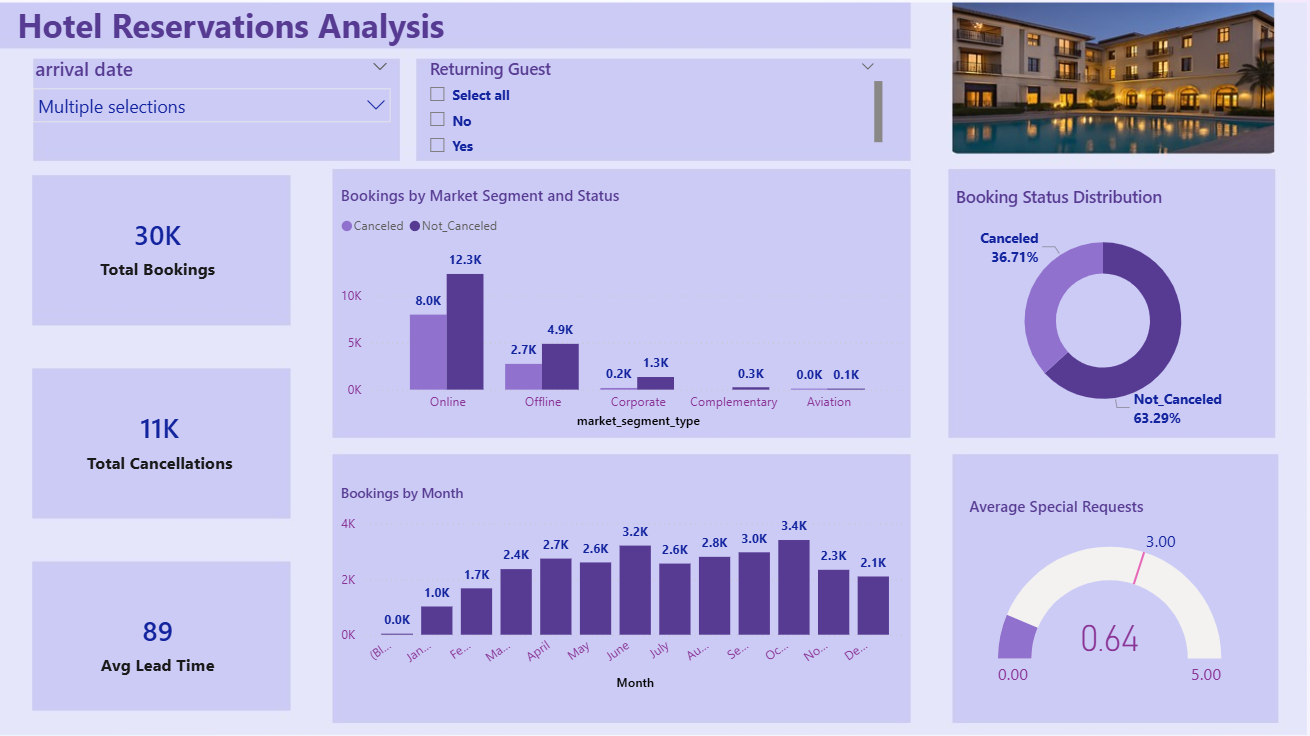

What the dashboard file says about the page in this screenshot:
{"tool":"powerbi","page":{"name":"Hotel reservations visualization ","canvas":[1280,720],"ordinal":0},"visuals":[{"type":"image","box":[0,0,1279.2,720.8],"z":0},{"type":"slicer","fields":{"Values":["Hotel Reservations  (2).Column"]},"box":[415.1,58.5,447.2,94.3],"z":1000},{"type":"slicer","fields":{"Values":["Hotel Reservations  (2).arrival_date .Variation.Date Hierarchy.Year","Hotel Reservations  (2).arrival_date .Variation.Date Hierarchy.Month","Hotel Reservations  (2).arrival_date .Variation.Date Hierarchy.Day"]},"box":[32.4,56.7,357.8,79.3],"z":2000},{"type":"donutChart","title":"Booking Status Distribution","fields":{"Category":["Hotel Reservations  (2).booking_status"],"Y":["CountNonNull(Hotel Reservations  (2).Booking_ID)"]},"box":[920.8,169.8,309.4,260.4],"z":3000},{"type":"gauge","title":" Average Special Requests","fields":{"Y":["Hotel Reservations  (2).AvgSpecialRequests"]},"box":[934,471.7,296.2,213.2],"z":4000},{"type":"columnChart","title":" Bookings by Month","fields":{"Category":["Hotel Reservations  (2).arrival_date .Variation.Date Hierarchy.Month"],"Y":["CountNonNull(Hotel Reservations  (2).Booking_ID)"]},"box":[324.5,460.4,571.7,224.5],"z":5000},{"type":"clusteredColumnChart","title":"Bookings by Market Segment and Status","fields":{"Category":["Hotel Reservations  (2).market_segment_type"],"Series":["Hotel Reservations  (2).booking_status"],"Y":["CountNonNull(Hotel Reservations  (2).Booking_ID)"]},"box":[324.5,169.8,571.7,260.4],"z":6000},{"type":"card","fields":{"Values":["Hotel Reservations  (2).Avg Lead Time"]},"box":[47.2,567.9,224.5,117],"z":7000},{"type":"card","fields":{"Values":["Hotel Reservations  (2).Total Cancellations"]},"box":[49.1,367.9,222.6,122.6],"z":8000},{"type":"card","fields":{"Values":["Hotel Reservations  (2).Total Bookings"]},"box":[47.2,181.1,224.5,122.6],"z":9000},{"type":"textbox","box":[17,0,796.2,69.8],"z":10000}]}

Visuals, with their boxes in screenshot pixels (x1, y1, x2, y2), scaled from the page's 1280x720 canvas onto the 1310x736 screenshot:
image: bbox(0, 0, 1309, 735)
slicer - Hotel Reservations  (2).Column: bbox(425, 60, 883, 156)
slicer - Hotel Reservations  (2).arrival_date .Variation.Date Hierarchy.Year x Hotel Reservations  (2).arrival_date .Variation.Date Hierarchy.Month: bbox(33, 58, 399, 139)
"Booking Status Distribution" donutChart: bbox(942, 174, 1259, 440)
" Average Special Requests" gauge: bbox(956, 482, 1259, 700)
" Bookings by Month" columnChart: bbox(332, 471, 917, 700)
"Bookings by Market Segment and Status" clusteredColumnChart: bbox(332, 174, 917, 440)
card - Hotel Reservations  (2).Avg Lead Time: bbox(48, 581, 278, 700)
card - Hotel Reservations  (2).Total Cancellations: bbox(50, 376, 278, 501)
card - Hotel Reservations  (2).Total Bookings: bbox(48, 185, 278, 310)
textbox: bbox(17, 0, 832, 71)
